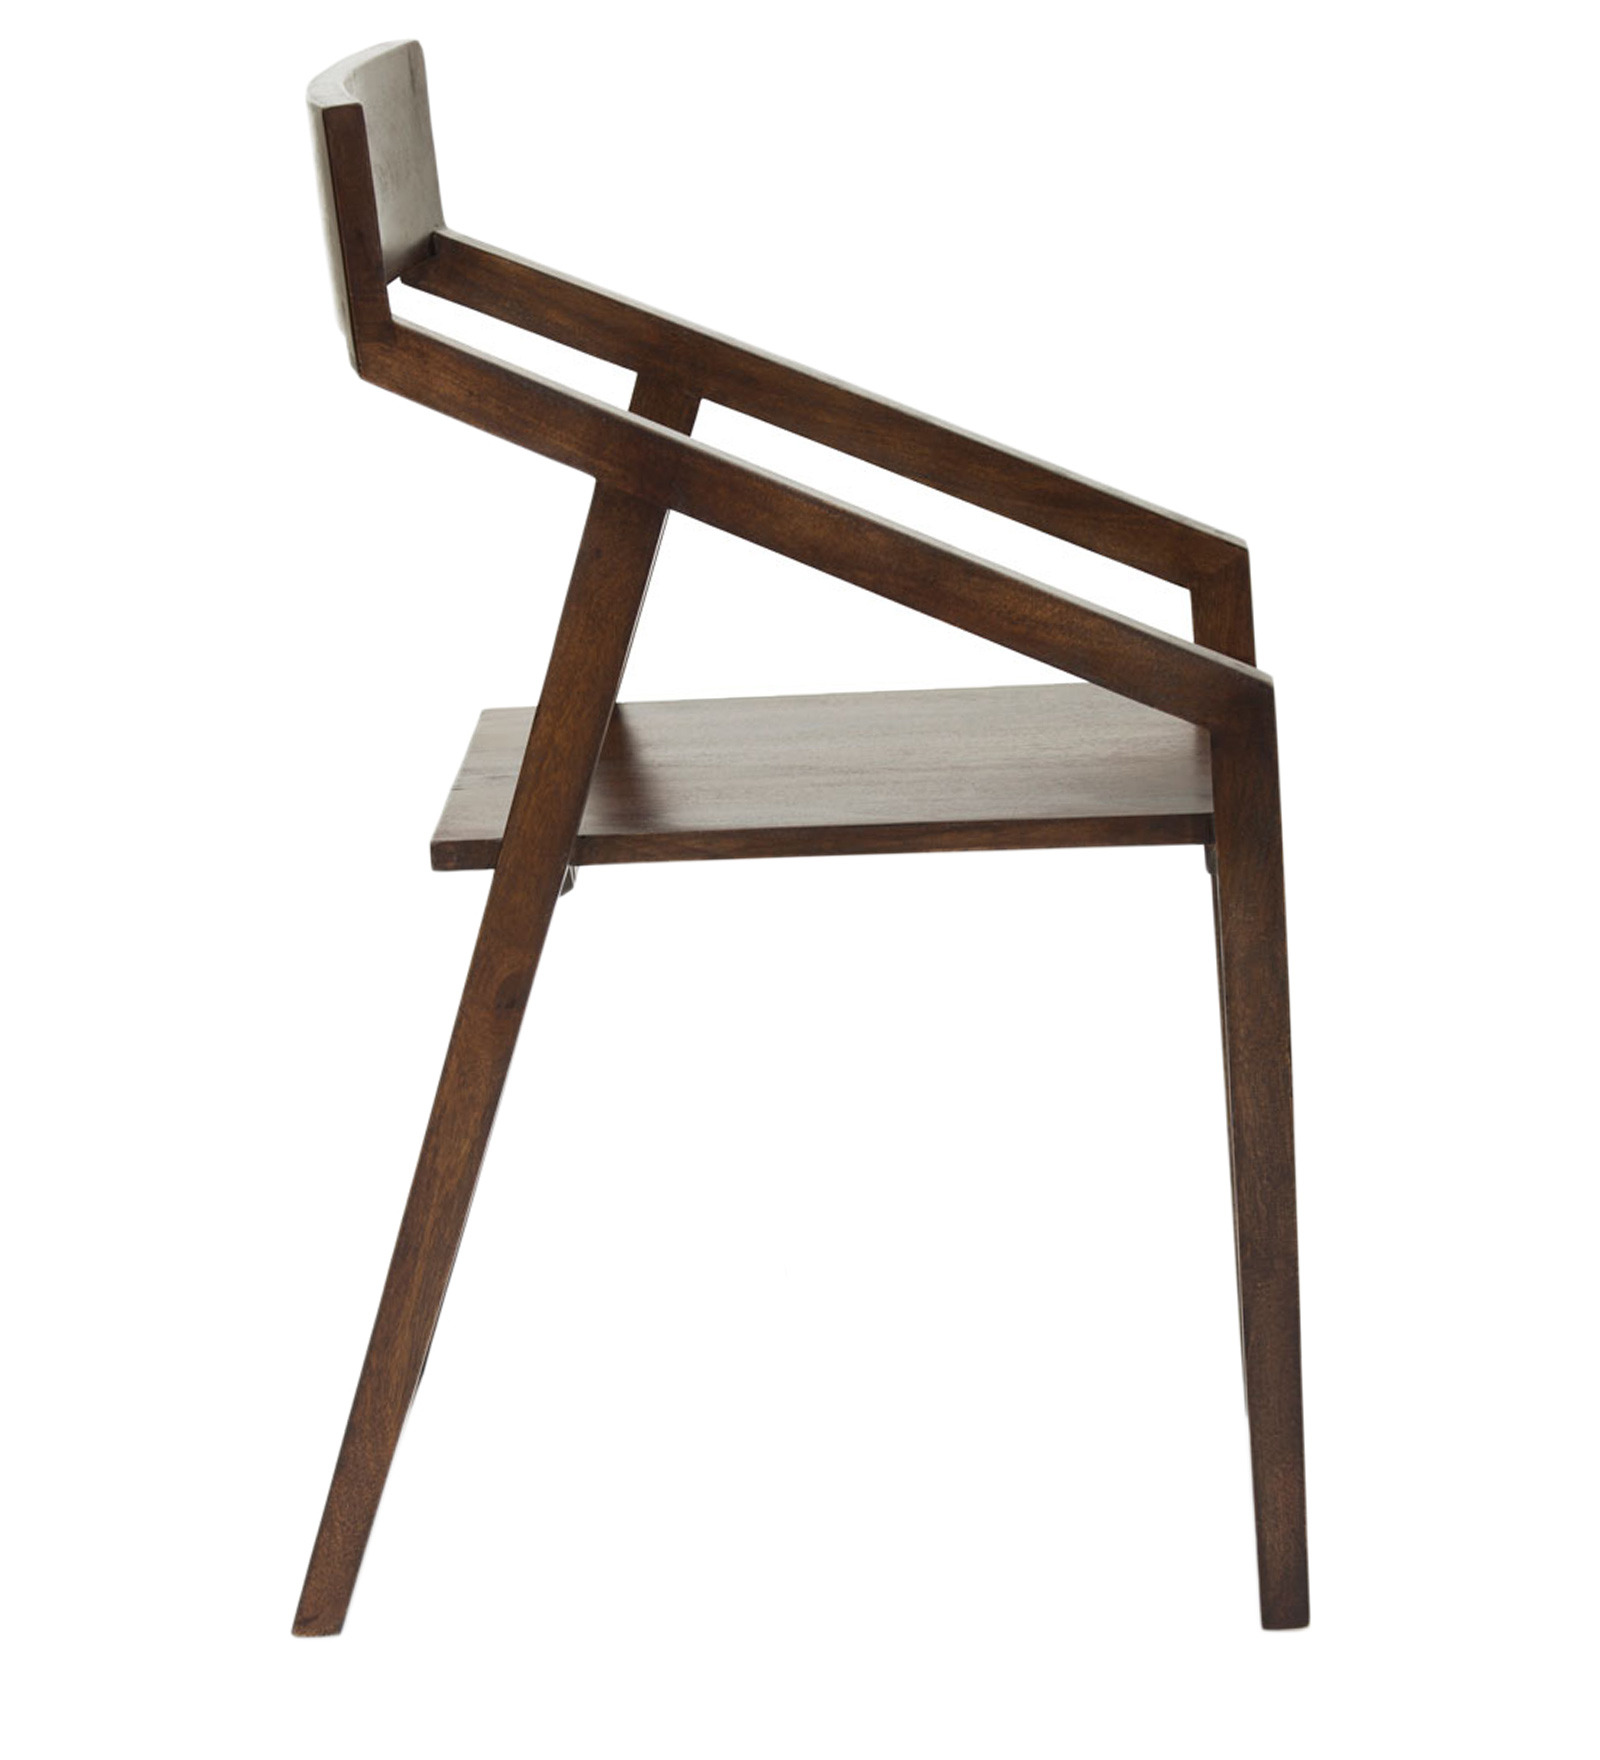Dulwich Solid Wood Arm Chair in Provincial Teak Finish by TheArmchair: (196, 20, 1372, 1682)
